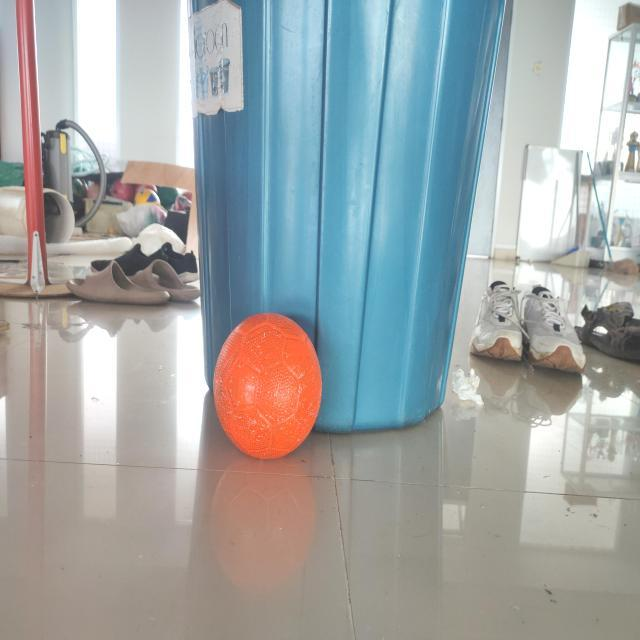bola: (209, 298, 327, 461)
